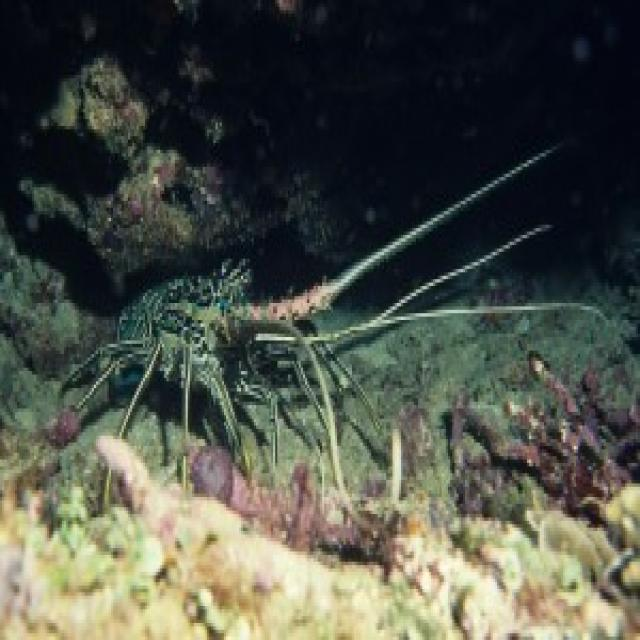lobsters: (31, 203, 577, 540)
